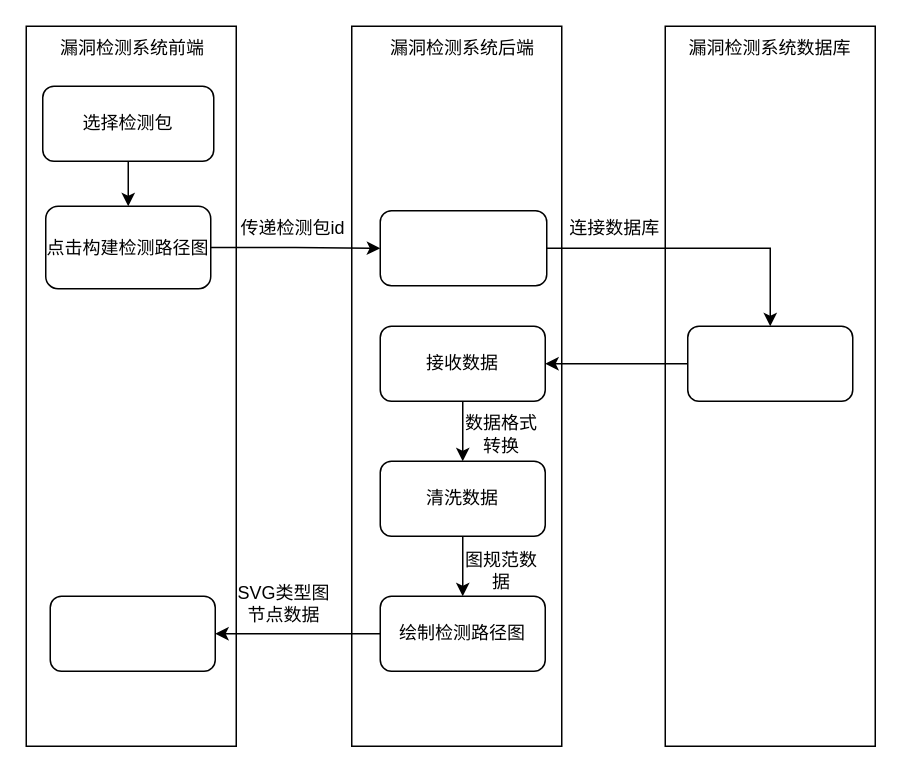
The diagram is 902 pixels wide and 773 high, and some of its shapes have lost their labels. Here are the shapes that lost their labels. From the top down, the centre of each, then its label:
At point (463, 247): "获取数据".
At point (769, 363): "查询数据".
At point (132, 633): "展示检测路径图".
